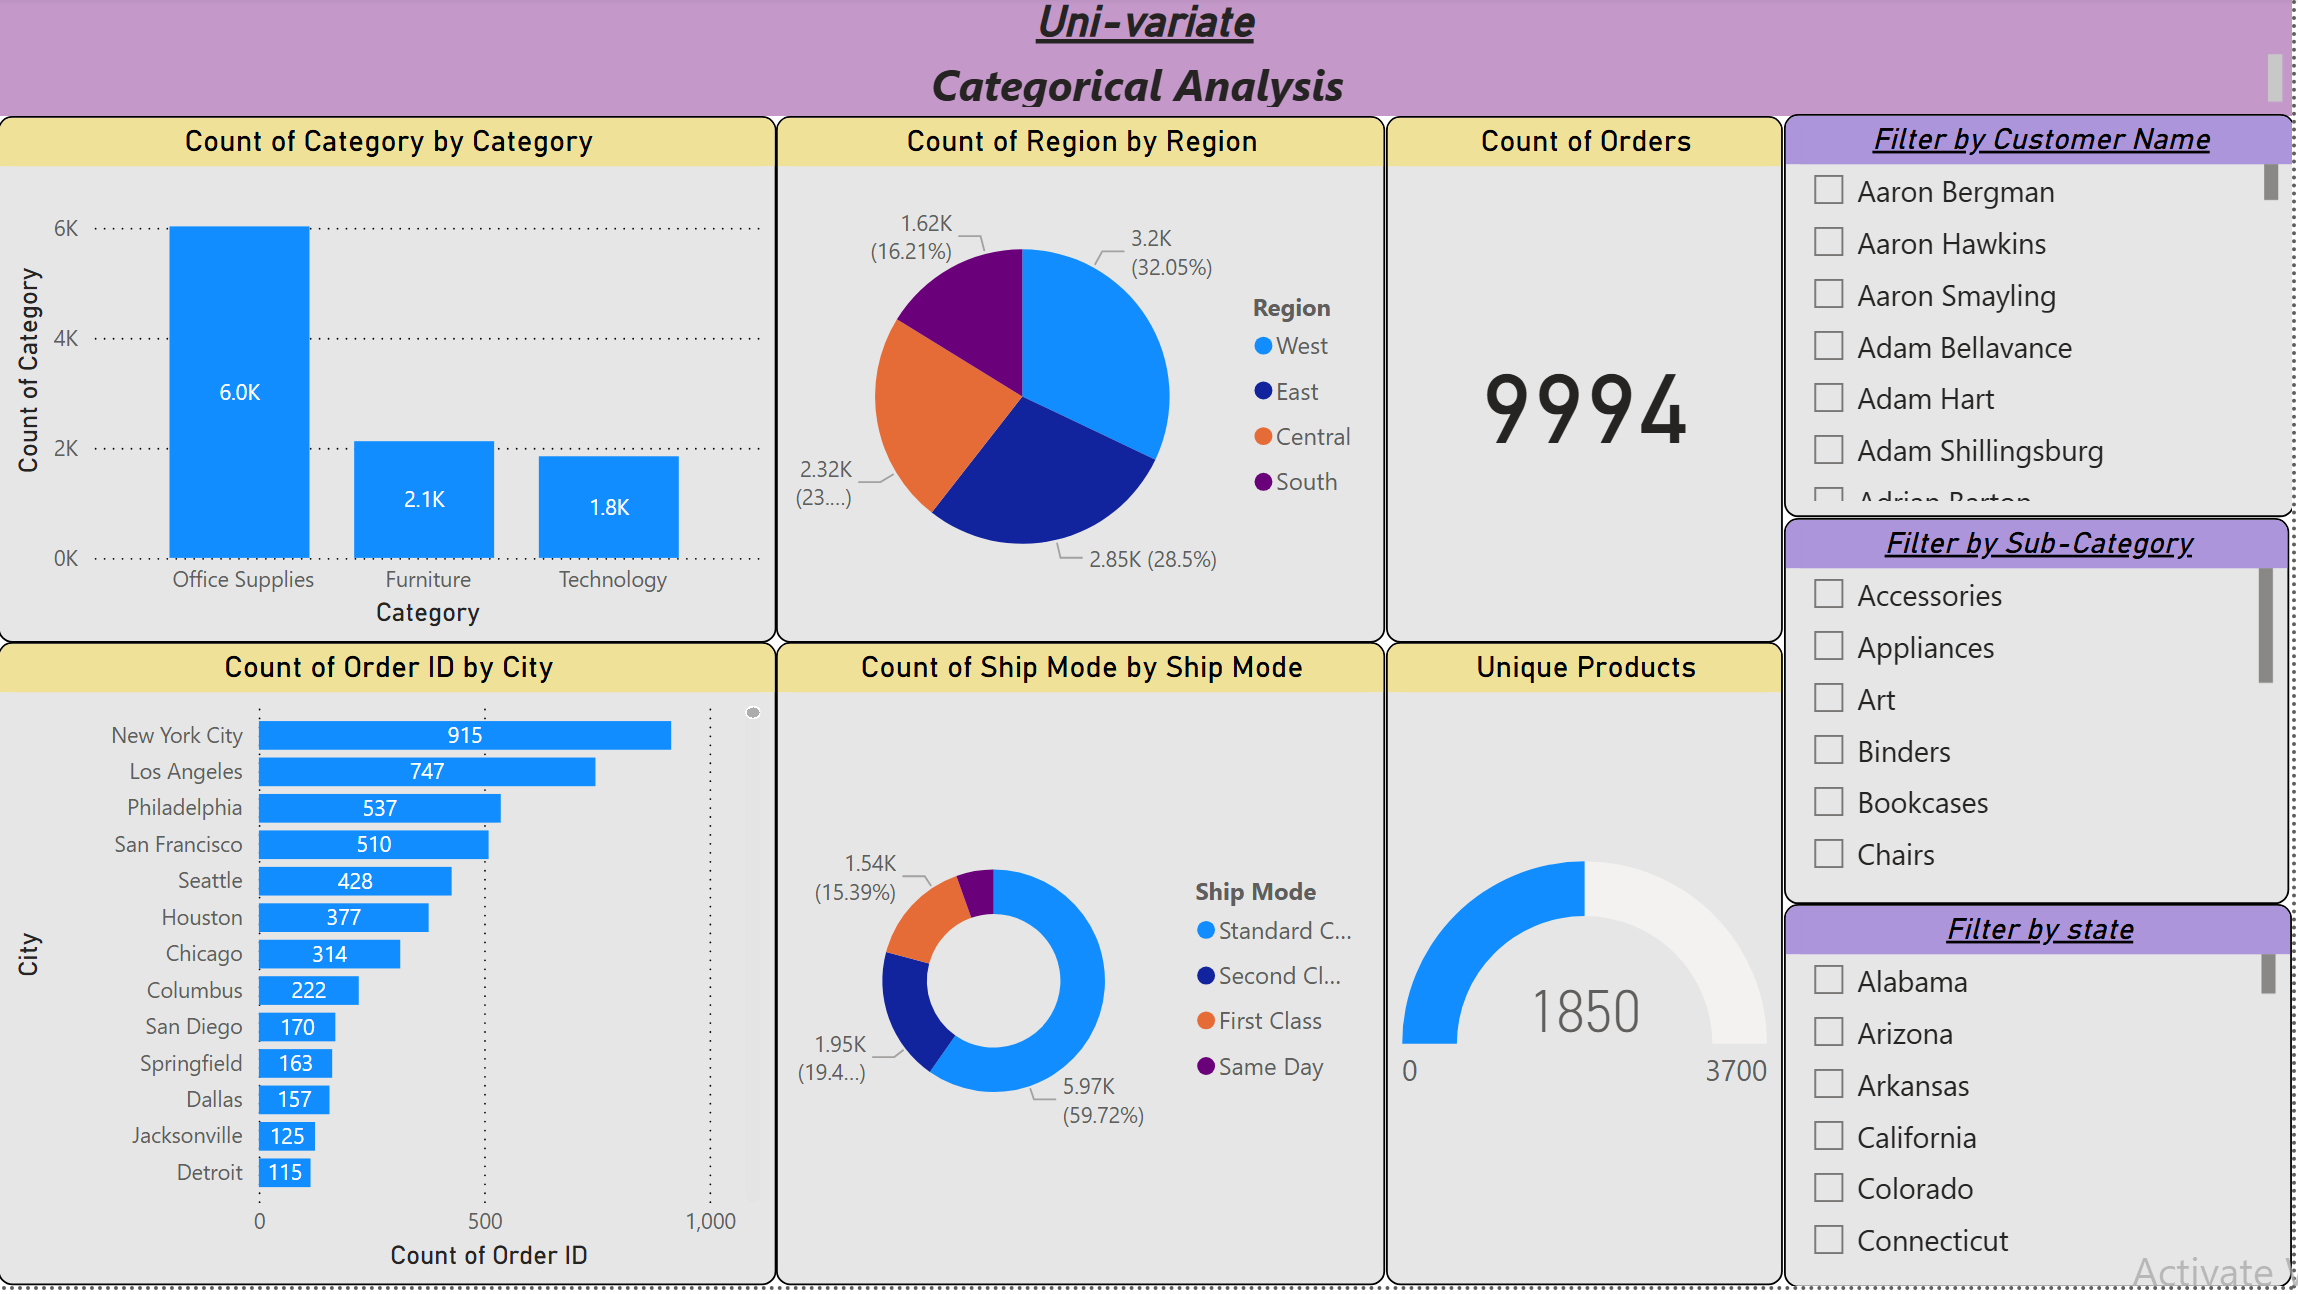

Layout of this report page (visuals, bound fields, positions):
{"tool":"powerbi","page":{"name":"Uni-variate","canvas":[1280,720],"ordinal":0},"visuals":[{"type":"textbox","title":"Uni-variate","box":[0,0,1280,66.5],"z":0},{"type":"columnChart","fields":{"Y":["CountNonNull(Superstore.Category)"],"Category":["Superstore.Category"]},"box":[0,66.5,434.5,294.1],"z":1000},{"type":"clusteredBarChart","fields":{"Category":["Superstore.City"],"Y":["CountNonNull(Superstore.Order ID)"]},"box":[0,360.6,434.5,359.2],"z":2000},{"type":"pieChart","fields":{"Category":["Superstore.Region"],"Y":["CountNonNull(Superstore.Region)"]},"box":[434.5,66.5,340,294.1],"z":3000},{"type":"donutChart","fields":{"Category":["Superstore.Ship Mode"],"Y":["CountNonNull(Superstore.Ship Mode)"]},"box":[434.5,360.6,340,359.2],"z":4000},{"type":"card","title":"Count of Orders","fields":{"Values":["CountNonNull(Superstore.Customer Name)"]},"box":[774.5,66.5,221.7,294.1],"z":5000},{"type":"gauge","title":"Unique Products","fields":{"Y":["Count(Superstore.Product Name)"]},"box":[774.5,360.6,221.7,359.2],"z":6000},{"type":"slicer","title":"Filter by state","fields":{"Values":["Superstore.State"]},"box":[996.6,506.8,283.4,214.1],"z":7000},{"type":"slicer","title":"Filter by Customer Name","fields":{"Values":["Superstore.Customer Name"]},"box":[996.6,66.2,285,224.9],"z":8000},{"type":"slicer","title":"Filter by Sub-Category","fields":{"Values":["Superstore.Sub-Category"]},"box":[996.6,291.1,281.9,215.6],"z":9000}]}

Visuals, with their boxes in screenshot pixels (x1, y1, x2, y2), scaled from the page's 1280x720 canvas onto the 2298x1294 screenshot:
"Uni-variate" textbox: {"x1": 0, "y1": 0, "x2": 2297, "y2": 120}
columnChart - CountNonNull(Superstore.Category) x Superstore.Category: {"x1": 0, "y1": 120, "x2": 780, "y2": 648}
clusteredBarChart - Superstore.City x CountNonNull(Superstore.Order ID): {"x1": 0, "y1": 648, "x2": 780, "y2": 1293}
pieChart - Superstore.Region x CountNonNull(Superstore.Region): {"x1": 780, "y1": 120, "x2": 1390, "y2": 648}
donutChart - Superstore.Ship Mode x CountNonNull(Superstore.Ship Mode): {"x1": 780, "y1": 648, "x2": 1390, "y2": 1293}
"Count of Orders" card: {"x1": 1390, "y1": 120, "x2": 1788, "y2": 648}
"Unique Products" gauge: {"x1": 1390, "y1": 648, "x2": 1788, "y2": 1293}
"Filter by state" slicer: {"x1": 1789, "y1": 911, "x2": 2297, "y2": 1293}
"Filter by Customer Name" slicer: {"x1": 1789, "y1": 119, "x2": 2297, "y2": 523}
"Filter by Sub-Category" slicer: {"x1": 1789, "y1": 523, "x2": 2295, "y2": 911}
